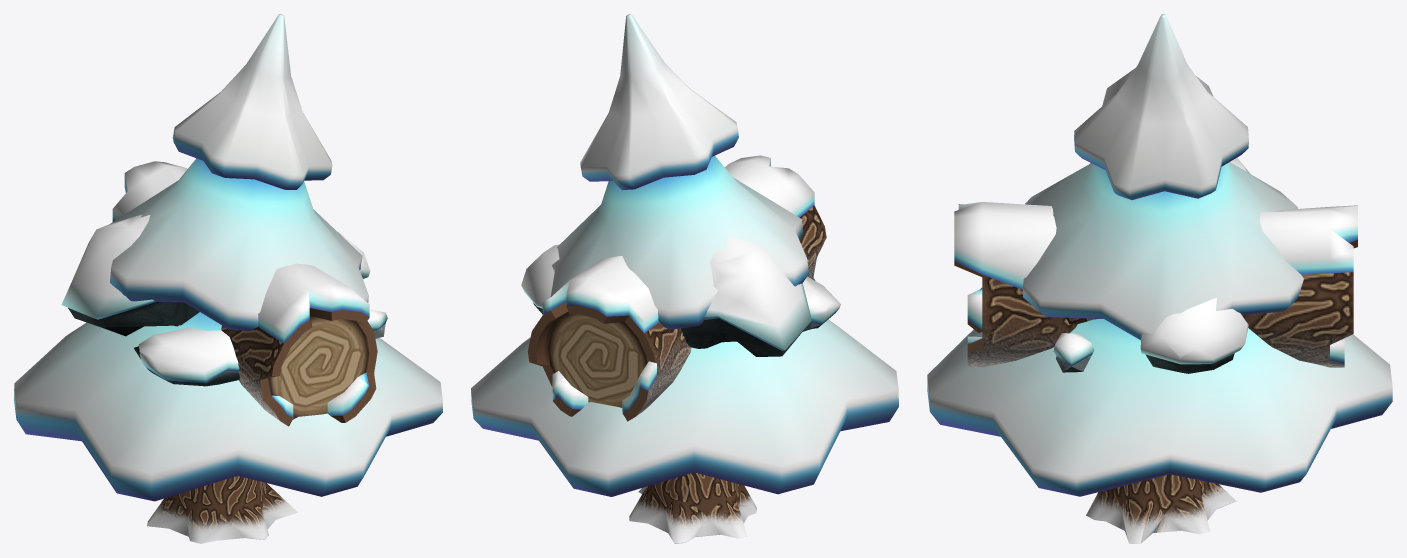
The model's file is TreesStonePack_0.fbx.
The picture shows the model from 3 angles, left to right: view 1: azimuth 30°, elevation 25°; view 2: azimuth 150°, elevation 25°; view 3: azimuth 270°, elevation 25°; orthographic projection. The views are drawn at different scales.
Parts seen in each view (by area): view 1: bigbendtree, lyingtree, stone; view 2: bigbendtree, lyingtree, stone; view 3: bigbendtree, lyingtree, stone.
Part boxes in pixels (x1,y1,x2,y2): bigbendtree: (14, 14, 442, 543); lyingtree: (112, 161, 377, 426); stone: (61, 214, 387, 386); bigbendtree: (471, 14, 898, 543); lyingtree: (527, 155, 826, 421); stone: (521, 237, 840, 356); bigbendtree: (927, 14, 1392, 543); lyingtree: (954, 202, 1357, 367); stone: (1053, 158, 1250, 373).
Size of the model in its own units: 186 by 249 by 199.
